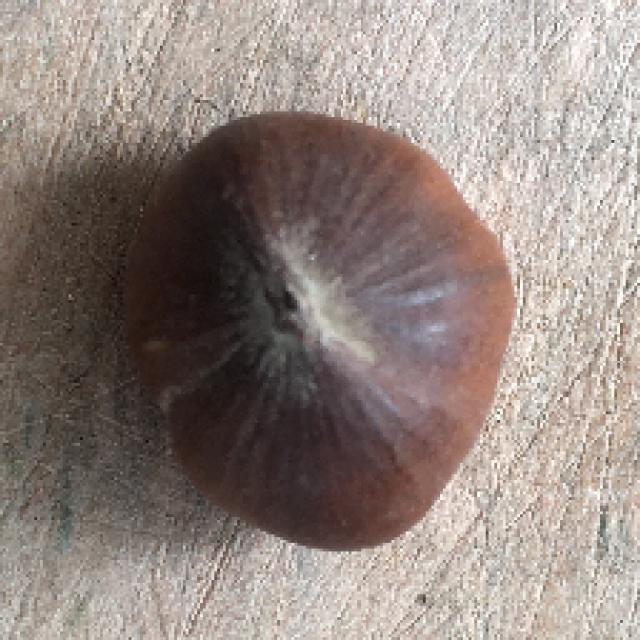damagedHazelnut: (114, 85, 534, 563)
